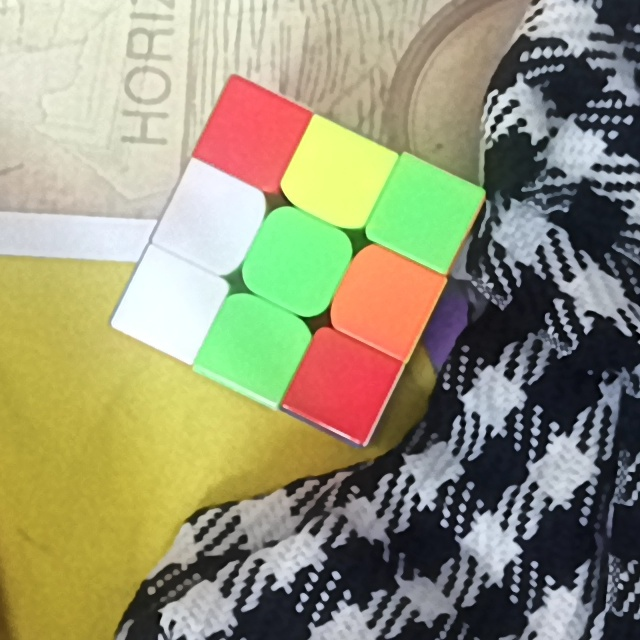tile: (390, 183, 464, 246), (347, 269, 418, 334), (263, 229, 331, 296), (215, 103, 285, 165), (303, 146, 372, 208), (181, 188, 244, 255), (309, 353, 378, 414), (137, 273, 206, 333), (218, 322, 289, 377)
